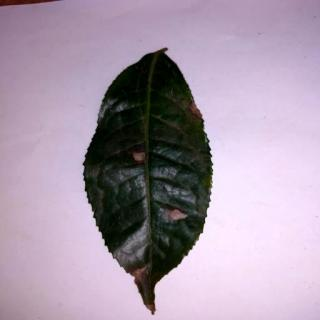Anthracnose: (85, 48, 216, 315)
